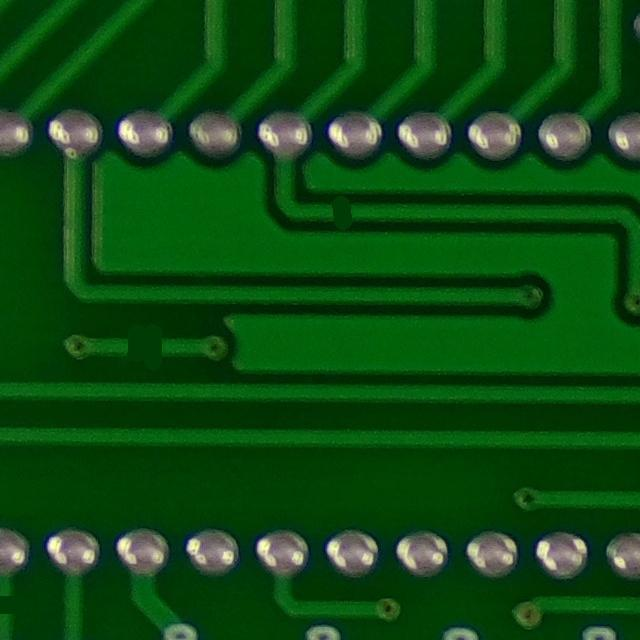open_circuit: (116, 326, 174, 369), (315, 195, 366, 229), (0, 587, 23, 622)
